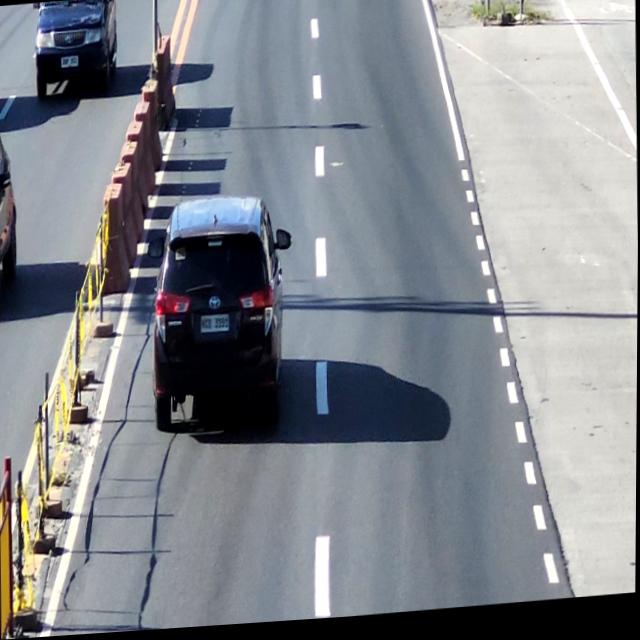Car: (150, 191, 294, 442)
License-Plate: (198, 315, 232, 342)
